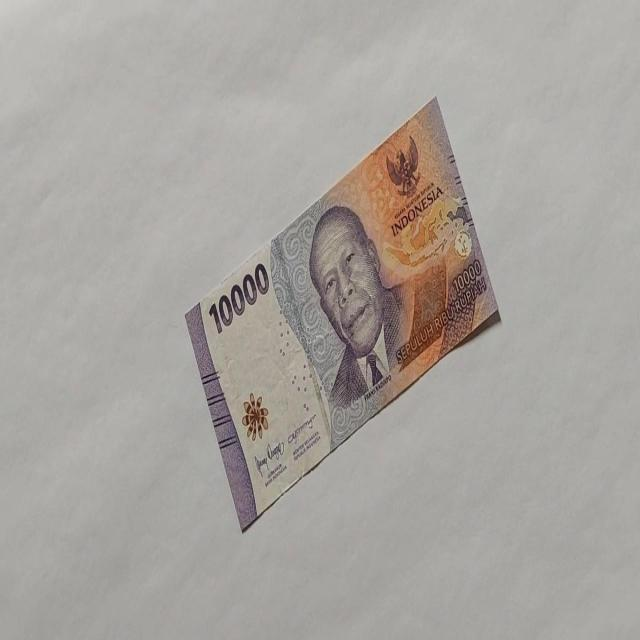Kertas: (184, 95, 502, 532), (208, 261, 270, 335)
